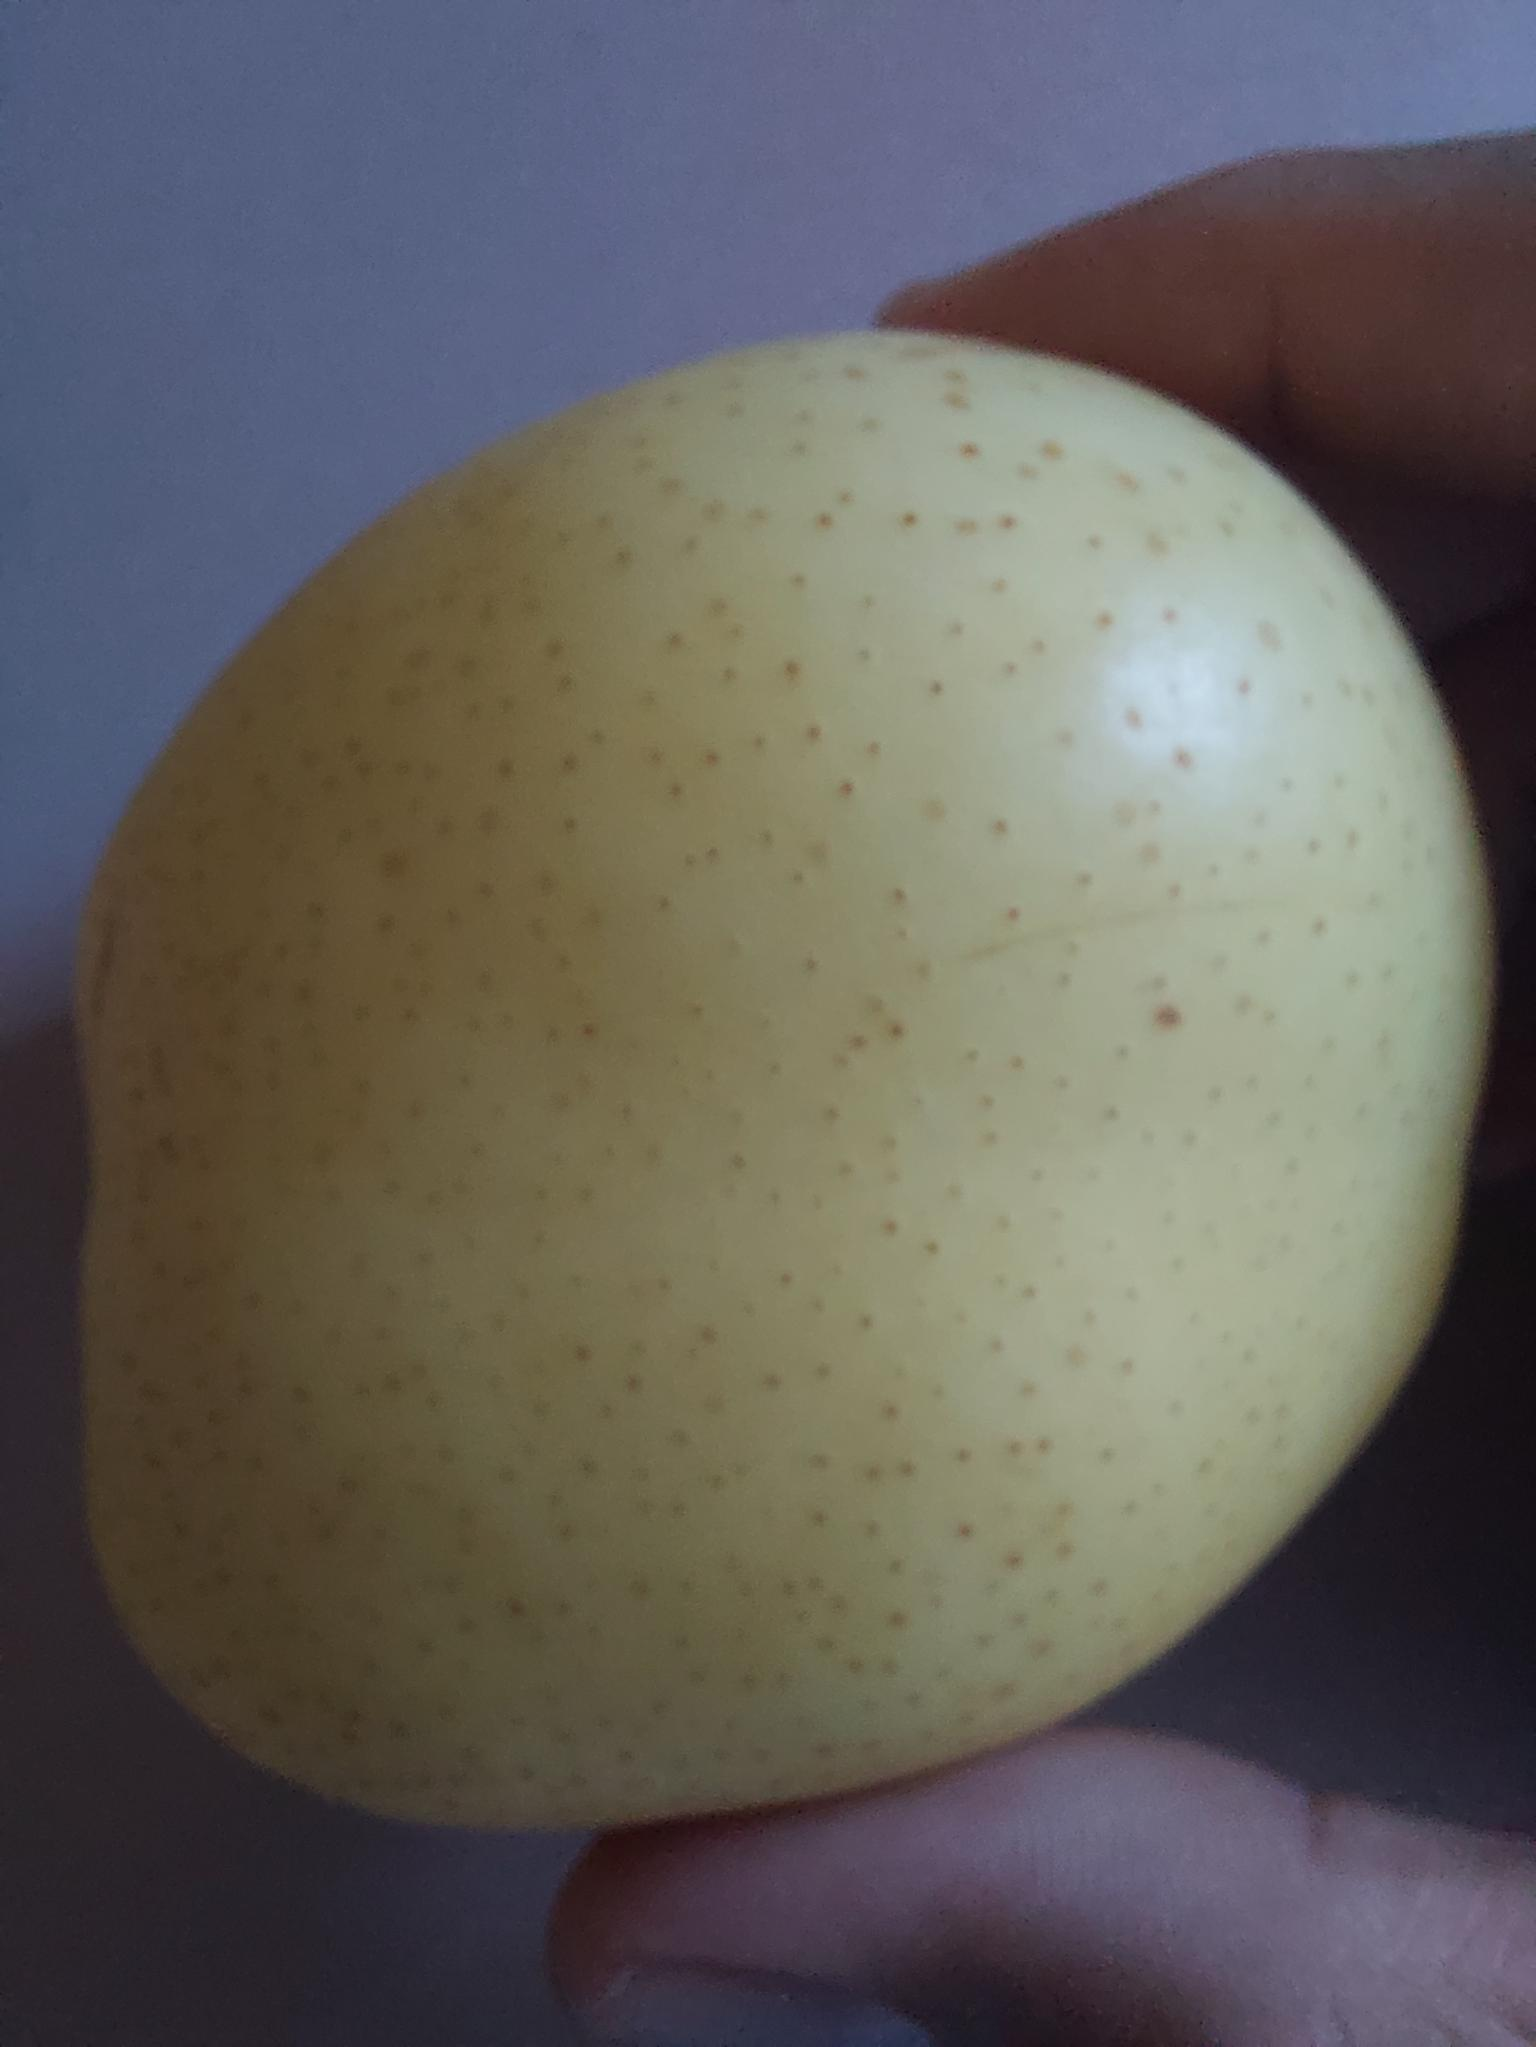Good Pear: (60, 327, 1536, 1850)
